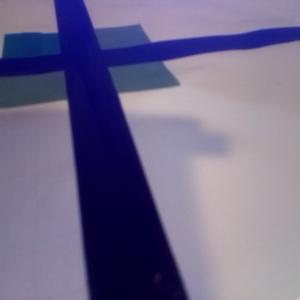bottom_left: (1, 58, 107, 108)
bottom_right: (67, 50, 180, 93)
top_left: (3, 33, 95, 70)
top_right: (61, 25, 150, 62)
